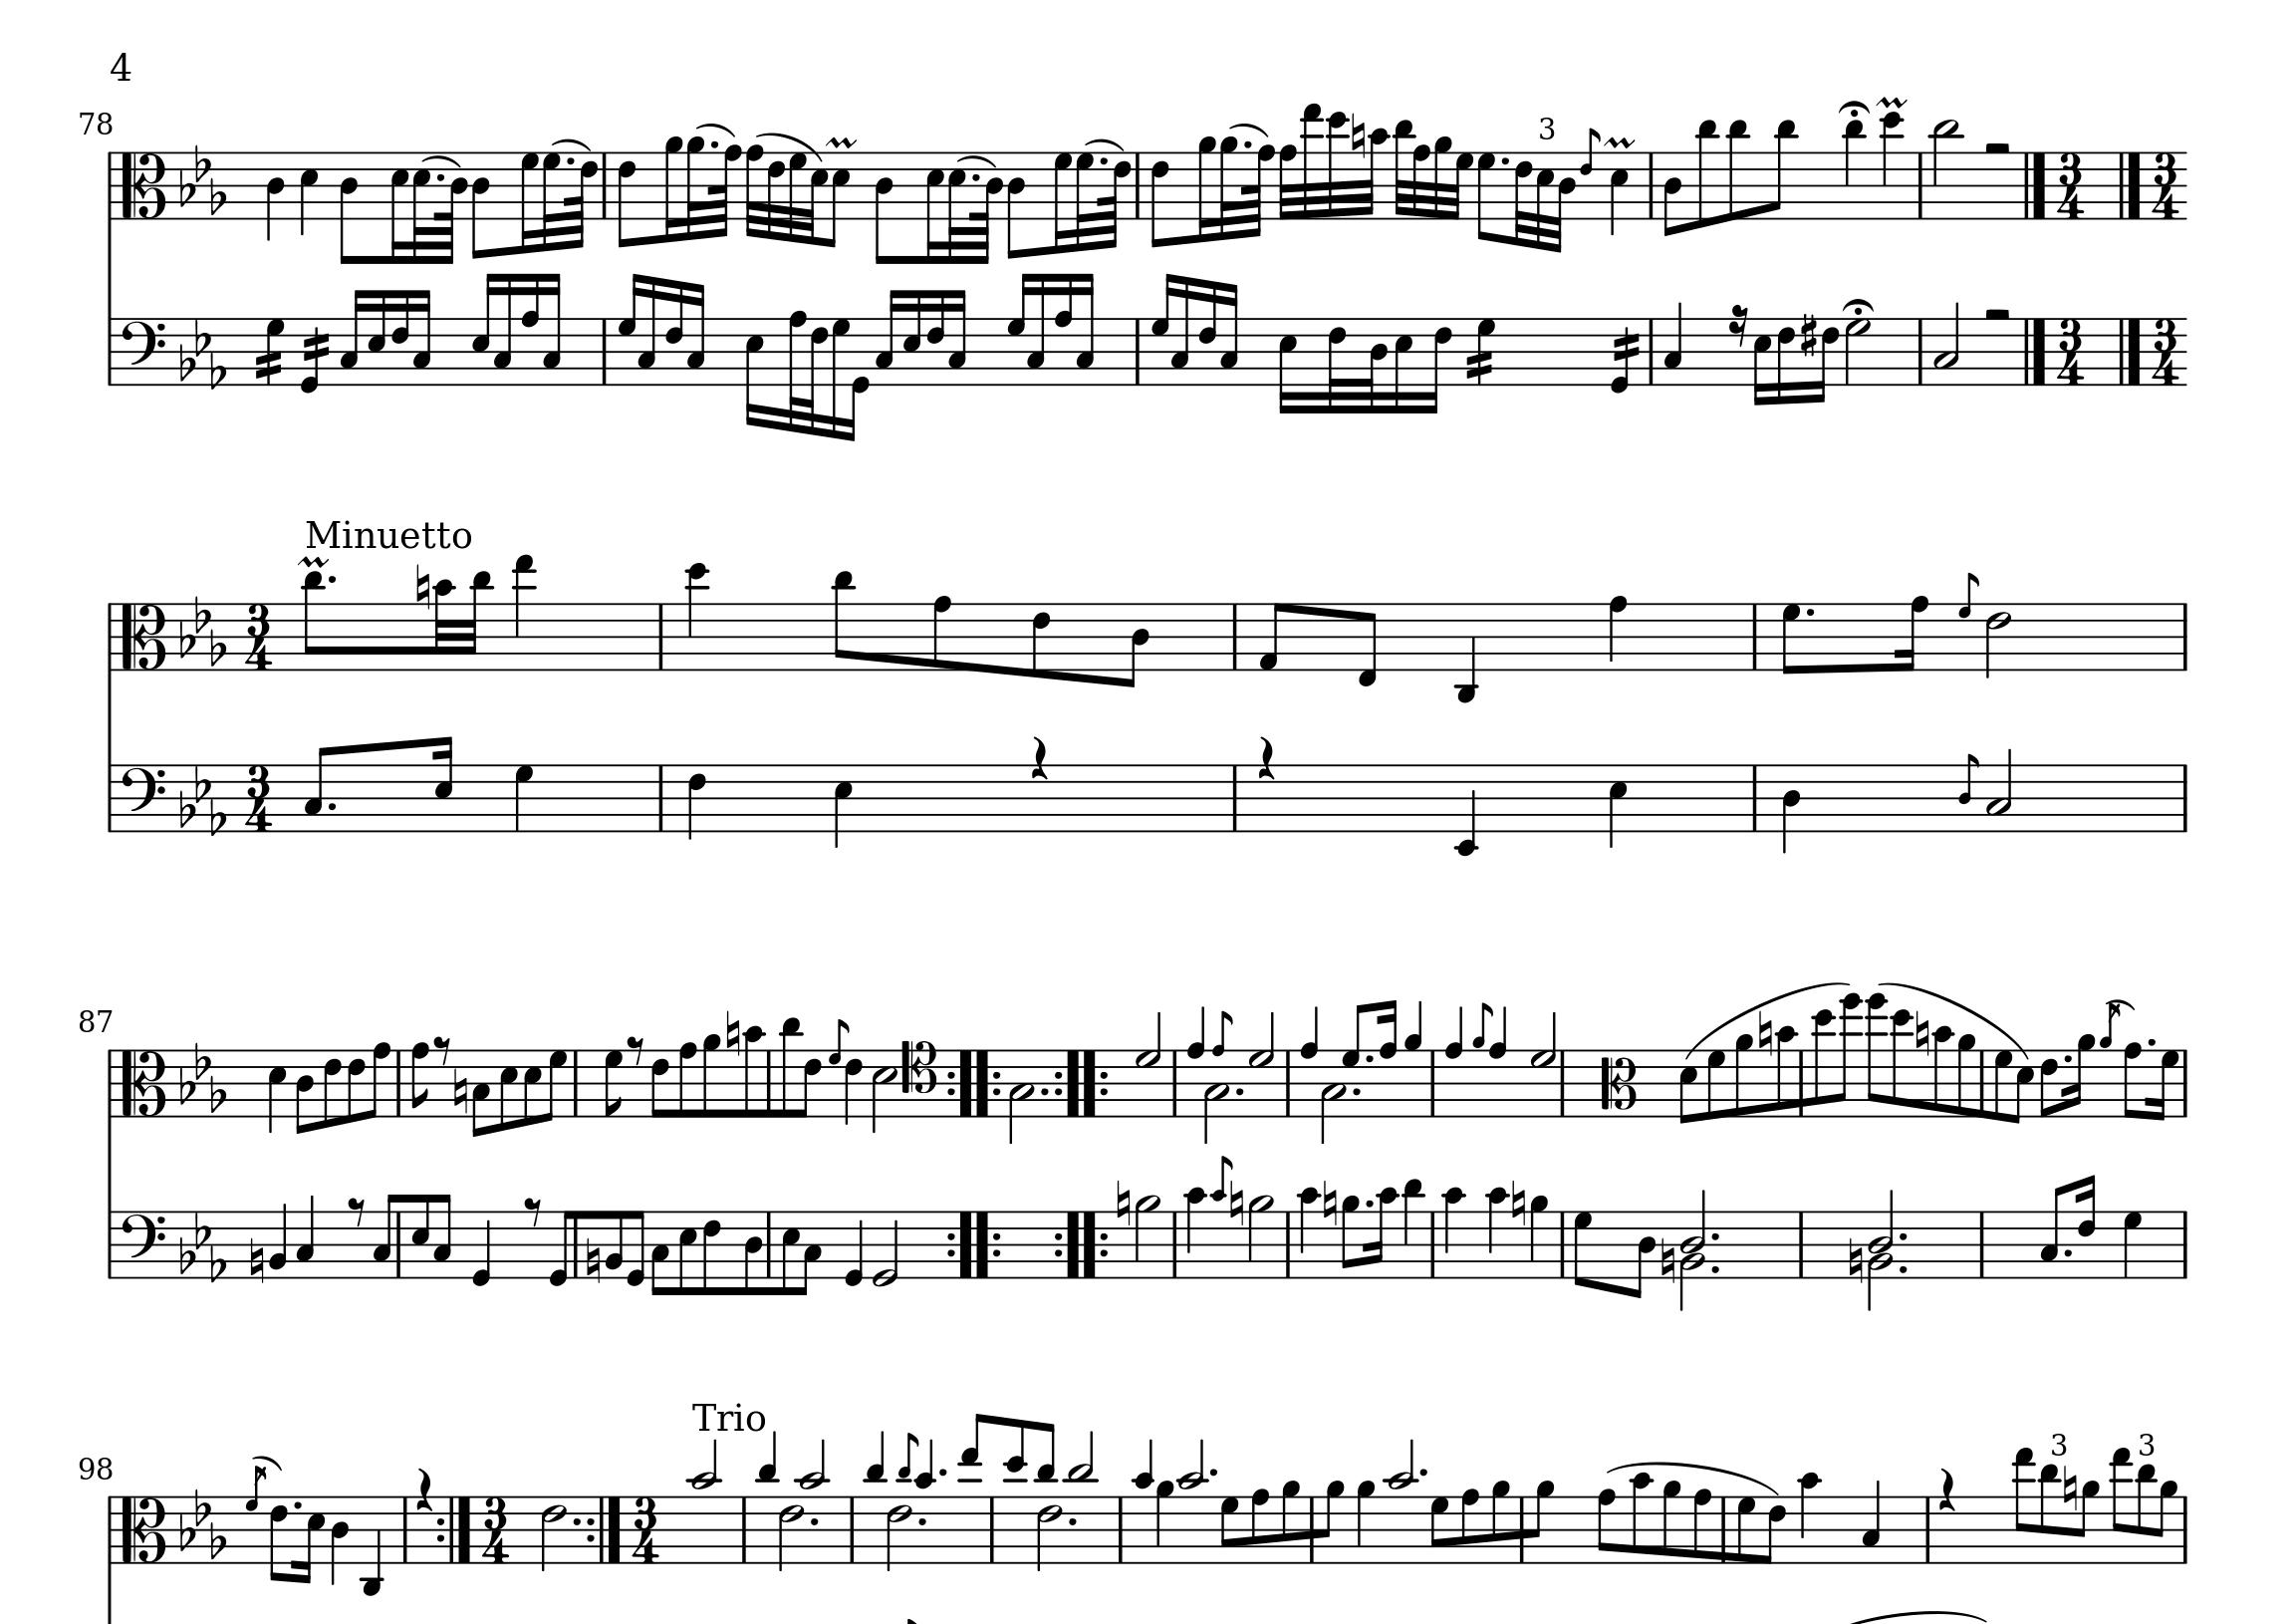16_0: (845, 315, 871, 441)
16_10: (1370, 1185, 1400, 1278)
16_3: (873, 286, 901, 388), (337, 286, 365, 387), (490, 271, 513, 387), (541, 271, 562, 388), (1026, 271, 1047, 388), (1075, 271, 1096, 388), (1170, 274, 1191, 388), (636, 274, 657, 387), (685, 279, 706, 387), (1217, 281, 1238, 387), (411, 286, 432, 388), (947, 286, 968, 387)
16_4: (664, 278, 685, 387)
16_5: (471, 271, 495, 387), (295, 1494, 325, 1584), (390, 148, 411, 262), (924, 148, 945, 262), (432, 733, 455, 831), (1277, 316, 1298, 417), (745, 318, 764, 427), (1393, 315, 1414, 413), (901, 288, 922, 385), (367, 286, 386, 385), (1751, 316, 1773, 406)
16_6: (1423, 315, 1453, 415), (1815, 315, 1841, 404), (924, 286, 947, 387), (1198, 278, 1217, 388), (390, 286, 411, 387), (2076, 1172, 2096, 1280), (1776, 315, 1795, 406), (269, 1496, 288, 1584)
16_7: (1151, 272, 1177, 388), (618, 271, 643, 388), (1007, 271, 1031, 387), (518, 149, 541, 255), (1052, 149, 1075, 253), (2154, 1046, 2180, 1121)
16_8: (1895, 594, 1929, 673), (1377, 997, 1398, 1116), (518, 272, 539, 387), (1054, 272, 1073, 388)
16_9: (664, 135, 685, 243), (1196, 135, 1217, 243), (2069, 1032, 2094, 1118)
2_0: (871, 1207, 899, 1287)
2_10: (799, 1434, 827, 1562), (1386, 1436, 1414, 1562), (692, 1436, 718, 1562), (1179, 1436, 1203, 1562)
2_11: (1068, 1427, 1096, 1561), (1931, 118, 1960, 221)
2_2_4: (1678, 1192, 1709, 1309), (1867, 1193, 1895, 1311)
2_3: (1203, 1046, 1233, 1144), (1321, 1046, 1349, 1144), (1008, 1046, 1036, 1142), (1934, 301, 1960, 387), (1987, 747, 2013, 833)
2_5: (871, 1048, 898, 1132)
2_6: (1985, 599, 2013, 678), (539, 1492, 567, 1570), (776, 1494, 805, 1570), (885, 1494, 912, 1571), (1035, 1494, 1061, 1571)
2_7: (1135, 1009, 1161, 1116), (1247, 1009, 1274, 1116), (1532, 1007, 1555, 1116), (1845, 316, 1871, 390)
2_9: (1133, 1193, 1161, 1280), (1247, 1193, 1274, 1280)
3: (242, 763, 278, 800), (2152, 149, 2180, 185), (2152, 316, 2180, 352), (481, 1494, 508, 1531), (2057, 316, 2083, 352), (632, 1494, 659, 1529), (2057, 151, 2083, 185), (246, 605, 272, 638), (2048, 1429, 2068, 1457), (2138, 1429, 2155, 1457), (1537, 114, 1555, 141)
32_10: (1361, 125, 1391, 220), (432, 576, 457, 673)
32_11: (464, 569, 492, 671), (1393, 116, 1414, 220)
32_12: (1325, 109, 1349, 220)
32_13: (1302, 102, 1326, 221)
32_4: (1553, 149, 1579, 253), (1363, 316, 1388, 413)
32_5: (411, 148, 432, 264), (947, 149, 968, 262), (806, 149, 829, 244), (1535, 148, 1555, 251)
32_6: (1100, 148, 1130, 250), (805, 316, 829, 436), (1326, 315, 1349, 413), (1513, 149, 1534, 248), (766, 149, 785, 241)
32_7: (541, 151, 562, 253), (1073, 151, 1094, 253), (789, 149, 806, 243), (1453, 151, 1474, 220)
32_8: (789, 309, 808, 436), (745, 144, 764, 239), (1277, 144, 1300, 221), (1411, 141, 1432, 220)
32_9: (1217, 135, 1240, 243), (685, 135, 706, 241), (1432, 135, 1453, 220)
4: (2152, 185, 2184, 218), (2152, 352, 2184, 385), (244, 636, 274, 671), (631, 1529, 661, 1562), (2057, 185, 2085, 218), (244, 796, 272, 830), (2057, 352, 2085, 383), (481, 1531, 509, 1562), (107, 47, 132, 79)
4_-2: (1455, 761, 1479, 858)
4_-3: (1453, 599, 1479, 703), (358, 1492, 383, 1598)
4_0: (471, 1209, 494, 1288), (843, 1207, 866, 1287)
4_10: (1133, 1436, 1154, 1562), (915, 1434, 935, 1562), (1797, 1469, 1822, 1566), (1296, 1185, 1321, 1278), (1442, 1186, 1467, 1280), (1184, 1186, 1209, 1278), (1484, 1185, 1507, 1280)
4_11: (864, 1427, 885, 1566), (755, 1429, 776, 1564), (1843, 120, 1867, 220), (1402, 1176, 1425, 1278)
4_12: (1880, 109, 1904, 221), (685, 561, 710, 673)
4_13: (513, 552, 536, 671)
4_2: (267, 1200, 288, 1280)
4_3: (1662, 299, 1685, 385), (295, 1193, 316, 1280), (1860, 1478, 1881, 1564)
4_4: (264, 149, 286, 243), (1780, 763, 1802, 854), (330, 1494, 350, 1585)
4_5: (831, 761, 854, 851), (1609, 148, 1630, 237), (1607, 761, 1628, 851), (299, 149, 320, 237), (267, 1046, 286, 1134)
4_6: (687, 761, 708, 840), (843, 1048, 864, 1127)
4_7: (513, 761, 536, 831), (2122, 1209, 2141, 1280)
4_8: (1444, 1004, 1463, 1118), (1607, 592, 1630, 671)
4_9: (1405, 998, 1423, 1116), (1354, 1478, 1377, 1564), (1154, 1478, 1175, 1562), (1528, 1193, 1548, 1280)
64_4: (436, 149, 469, 264), (971, 149, 1005, 264)
64_6: (566, 148, 597, 250)
64_8: (710, 142, 741, 241), (1244, 144, 1274, 239)
7: (95, 1007, 114, 1033), (77, 109, 95, 135)
8: (95, 1454, 114, 1480), (95, 109, 112, 135), (77, 1007, 95, 1032)
8_-1: (1356, 599, 1379, 687)
8_0: (548, 1207, 576, 1287), (625, 1207, 645, 1287)
8_1: (1258, 599, 1288, 671)
8_10: (743, 1025, 768, 1120), (1630, 1471, 1653, 1564), (1776, 1025, 1797, 1118), (1932, 1025, 1953, 1118)
8_11: (1767, 118, 1797, 220), (831, 568, 857, 673), (1695, 118, 1720, 228), (1727, 118, 1750, 223), (302, 568, 325, 673), (778, 1016, 801, 1118), (2038, 1461, 2059, 1564), (2136, 1459, 2155, 1562)
8_12: (1005, 1417, 1028, 1562), (1813, 1002, 1834, 1118), (1890, 1007, 1911, 1120)
8_13: (957, 1410, 986, 1564), (2011, 1445, 2032, 1564), (2112, 1443, 2131, 1566)
8_14: (1834, 990, 1862, 1118), (1864, 990, 1887, 1116)
8_2: (604, 1207, 625, 1278)
8_3: (2040, 1183, 2068, 1280), (302, 743, 332, 833), (371, 1192, 399, 1280), (799, 1207, 824, 1295), (650, 1209, 671, 1297), (471, 1048, 490, 1137), (432, 1192, 451, 1280)
8_4: (337, 148, 360, 265), (1121, 599, 1151, 689), (873, 148, 896, 264), (1005, 148, 1028, 258), (1628, 1209, 1655, 1301), (471, 148, 492, 260), (1662, 151, 1685, 237), (1957, 750, 1980, 833), (293, 1048, 314, 1135), (741, 1209, 762, 1295)
8_5: (827, 148, 850, 250), (409, 1192, 430, 1280), (2011, 1049, 2034, 1123), (678, 1209, 697, 1295), (780, 1209, 799, 1295), (1678, 1048, 1699, 1125), (499, 1048, 518, 1130), (522, 1048, 541, 1127)
8_6: (1149, 148, 1170, 250), (617, 149, 638, 250), (1762, 1494, 1788, 1566), (701, 1207, 722, 1295), (1029, 599, 1052, 680), (798, 1048, 822, 1118), (321, 1048, 343, 1128), (650, 1048, 671, 1120), (346, 1048, 365, 1123), (2040, 1048, 2059, 1118)
8_7: (1342, 1002, 1367, 1116), (1476, 151, 1497, 243), (545, 1048, 567, 1121), (1572, 1209, 1593, 1288), (603, 1048, 625, 1120), (1781, 601, 1802, 675), (1706, 1048, 1727, 1120), (1736, 1494, 1757, 1564), (1219, 1494, 1238, 1562), (1430, 1494, 1449, 1562), (1994, 1048, 2011, 1121)
8_8: (367, 1040, 392, 1120), (1488, 1005, 1505, 1116), (408, 1039, 430, 1118), (1249, 1485, 1272, 1564), (931, 592, 952, 671), (1460, 1485, 1481, 1564), (1595, 1487, 1616, 1564), (1692, 1487, 1713, 1564), (678, 1040, 697, 1118)
8_9: (1528, 1478, 1556, 1564), (1319, 1478, 1346, 1562), (2076, 1478, 2101, 1564), (701, 1032, 724, 1118), (2155, 1478, 2178, 1564), (1490, 1478, 1513, 1562), (1734, 1032, 1755, 1118), (1340, 1193, 1361, 1280), (1662, 1478, 1683, 1564), (1281, 1478, 1302, 1562), (1957, 1032, 1976, 1118), (2124, 1040, 2141, 1120)
9: (77, 1454, 95, 1480)
Acciaccature: (2099, 1002, 2124, 1118), (242, 1462, 269, 1564)
Appoggiature: (827, 1018, 850, 1121), (1957, 569, 1980, 668), (1578, 127, 1600, 220)
Cclef: (118, 149, 169, 220), (118, 601, 169, 671), (118, 1048, 169, 1116), (118, 1494, 167, 1564), (1599, 1048, 1637, 1120)
E_F: (177, 766, 228, 837), (177, 146, 227, 218), (177, 318, 227, 388), (177, 1044, 227, 1114), (179, 596, 227, 668)
E_S: (177, 1209, 228, 1285), (179, 1492, 228, 1562)
Fclef: (119, 1207, 167, 1280), (119, 763, 167, 833), (121, 316, 167, 388)
Fermata_above: (1839, 295, 1876, 315), (1838, 98, 1873, 116)
Final_barline: (2115, 316, 2145, 383), (2115, 149, 2143, 218), (2022, 316, 2048, 385), (2022, 151, 2048, 218)
Natural: (415, 559, 432, 610), (1658, 1234, 1676, 1285), (1846, 1234, 1864, 1285), (248, 1236, 265, 1285), (1321, 1176, 1339, 1225), (451, 1067, 469, 1114), (724, 1009, 741, 1056), (585, 1234, 601, 1287), (1116, 1176, 1131, 1227), (1511, 1176, 1527, 1227), (1757, 1007, 1773, 1056), (1228, 1178, 1244, 1227), (1351, 109, 1365, 158), (2062, 1462, 2076, 1512), (1915, 1009, 1929, 1056)
Rests16: (1727, 302, 1750, 348)
Rests2: (1982, 137, 2015, 158), (1982, 302, 2015, 323)
Rests4: (1028, 733, 1051, 780), (1256, 733, 1275, 780), (1939, 1464, 1957, 1512), (415, 1466, 432, 1512)
Rests8: (522, 1193, 545, 1227), (625, 1032, 646, 1067), (346, 1193, 367, 1227), (434, 1032, 451, 1065)
RightAndLeftRepeatSign: (945, 1209, 1005, 1278), (1051, 1209, 1110, 1276), (1054, 1048, 1112, 1116), (945, 1048, 1003, 1116)
RightRepeatSign: (434, 1494, 473, 1562), (585, 1494, 624, 1562), (567, 1513, 592, 1547)
Sharp: (1801, 311, 1818, 359)
ShortTrill: (826, 132, 859, 149), (1874, 93, 1908, 109), (1600, 134, 1637, 148), (297, 554, 329, 569)
Single_barline: (2173, 1048, 2196, 1121), (100, 151, 121, 220), (1744, 763, 1765, 831), (2173, 763, 2194, 831), (1715, 1494, 1736, 1562), (2173, 603, 2194, 670), (1744, 603, 1765, 668), (1792, 1048, 1811, 1116), (734, 1494, 754, 1562), (102, 318, 121, 385), (100, 603, 119, 670), (1224, 765, 1244, 831), (1555, 1049, 1574, 1116), (2175, 1496, 2194, 1562), (652, 765, 671, 830), (843, 1494, 861, 1564), (1130, 151, 1147, 220), (102, 763, 119, 831), (761, 1209, 778, 1278), (2177, 1209, 2194, 1278), (1130, 318, 1147, 385), (1279, 1049, 1296, 1116), (1911, 153, 1929, 218), (597, 318, 615, 383), (1911, 318, 1929, 383), (397, 1496, 415, 1561), (1918, 1496, 1936, 1561), (984, 1494, 1000, 1566), (1425, 1207, 1440, 1278), (1975, 1048, 1990, 1116), (1281, 1209, 1296, 1278), (1166, 1209, 1182, 1278), (1555, 1209, 1570, 1278), (1110, 1496, 1126, 1564), (1643, 151, 1658, 218), (761, 1048, 776, 1114), (1168, 1049, 1184, 1116), (1425, 1049, 1440, 1116), (1307, 1492, 1321, 1566), (597, 153, 613, 218), (1973, 1213, 1989, 1276), (1518, 1494, 1532, 1564), (1794, 1213, 1809, 1274), (392, 1048, 406, 1116), (102, 1048, 116, 1116), (569, 1048, 583, 1116), (392, 1209, 406, 1278), (102, 1494, 116, 1562), (104, 1209, 116, 1280)
Slur: (755, 130, 826, 162), (1228, 121, 1270, 139), (694, 121, 736, 137), (550, 135, 592, 151), (1082, 135, 1124, 151), (251, 1452, 285, 1471), (422, 153, 462, 169), (956, 153, 998, 167)
Stem: (299, 318, 332, 394), (1609, 318, 1641, 392), (253, 316, 286, 385), (1463, 320, 1497, 387)
Tensor_Cclef: (899, 1037, 938, 1116)
TimeSig: (241, 601, 276, 671), (241, 763, 276, 831), (2148, 316, 2182, 383), (2055, 151, 2087, 220), (2150, 151, 2182, 220), (2055, 318, 2087, 385), (481, 1496, 509, 1564), (631, 1496, 659, 1562)
dot: (1802, 605, 1816, 619), (2143, 1033, 2157, 1048), (935, 1464, 949, 1478), (2062, 1244, 2075, 1260), (325, 573, 337, 587), (2062, 1051, 2075, 1065), (1038, 1084, 1052, 1097), (292, 1497, 304, 1512), (808, 1513, 820, 1527), (1066, 1513, 1079, 1527), (1498, 155, 1511, 167), (325, 800, 337, 812), (1361, 1197, 1374, 1209), (708, 137, 718, 149), (1098, 153, 1108, 165), (970, 170, 982, 181), (1351, 1084, 1361, 1097), (1708, 1230, 1720, 1241), (1418, 1464, 1428, 1476), (1207, 1466, 1217, 1478), (571, 1513, 581, 1526), (917, 1513, 928, 1526), (1242, 139, 1253, 149), (566, 155, 576, 165), (1897, 1230, 1908, 1241), (436, 170, 444, 183), (1235, 1084, 1244, 1097), (1708, 1264, 1720, 1272), (1897, 1264, 1908, 1272)
